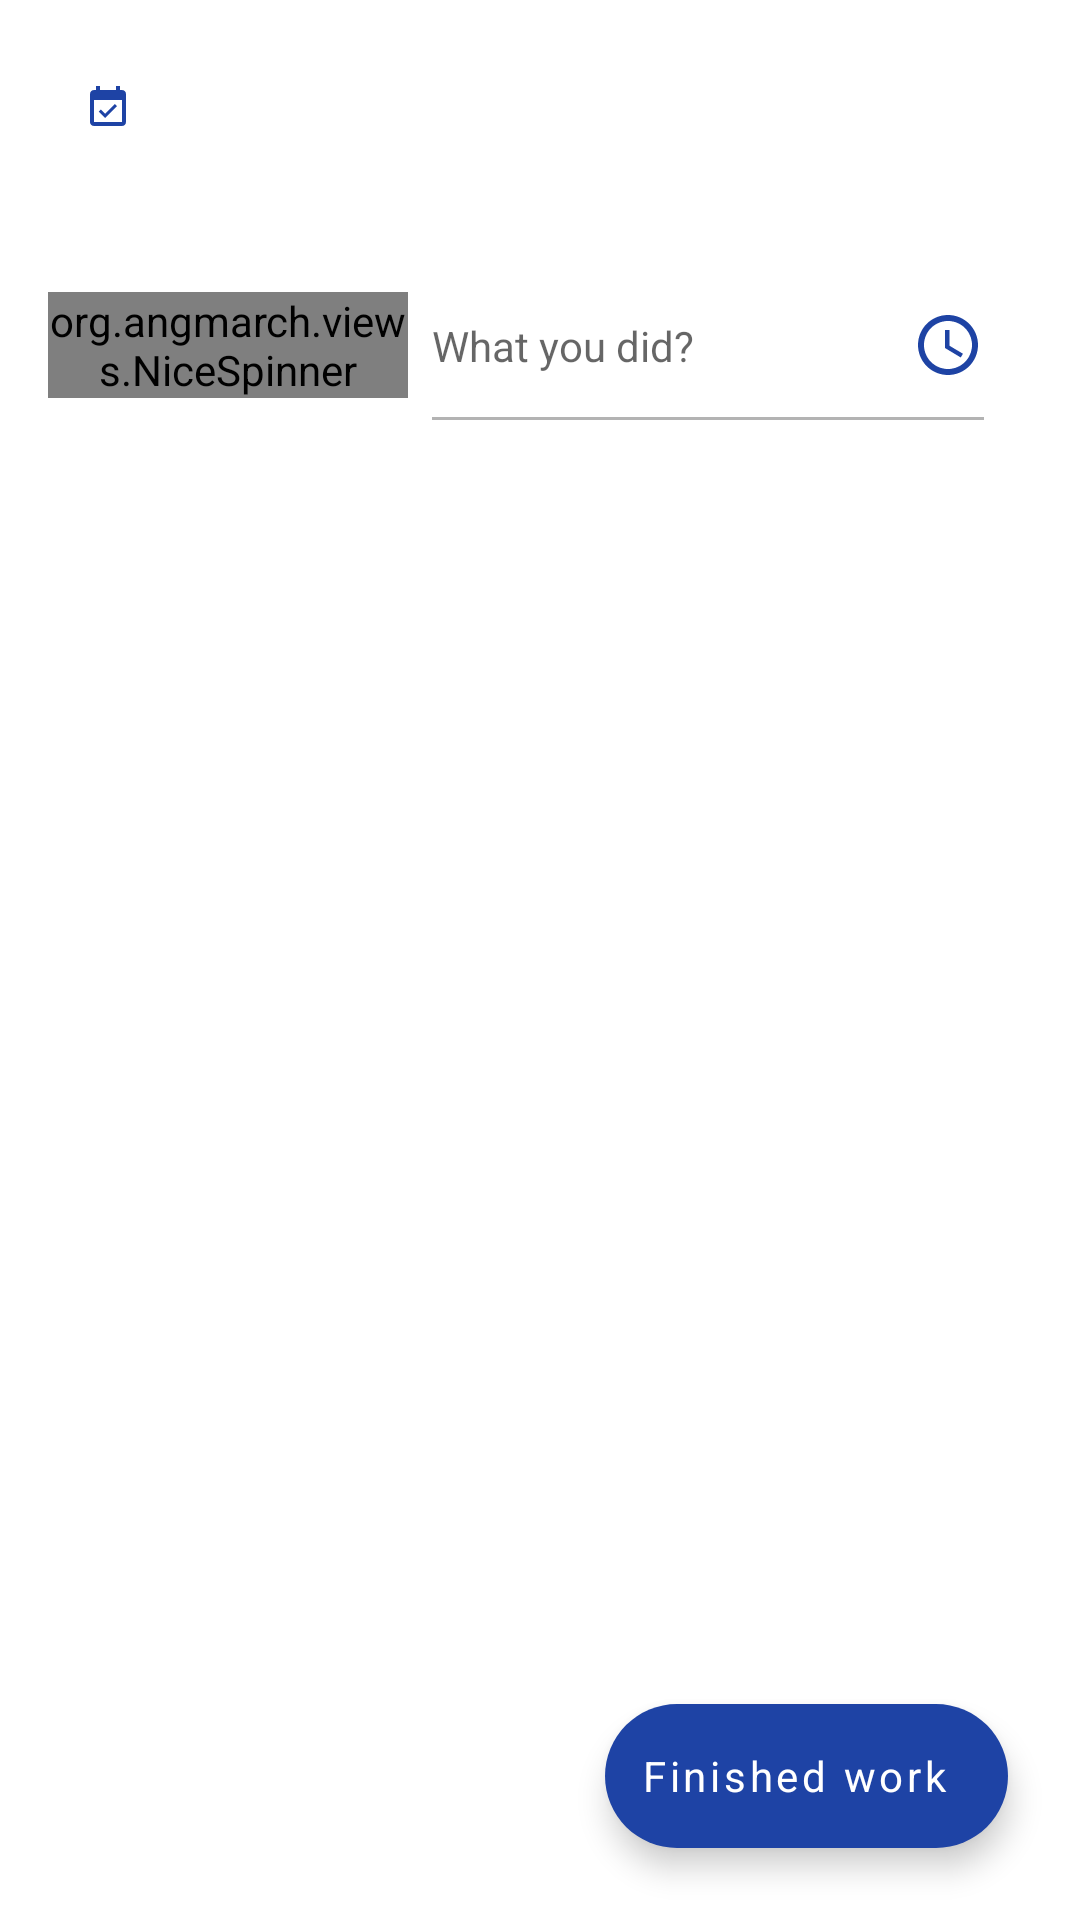

Icon click points for this 1080 x 1920 phone screenshot, format point (x, y):
access time: point (948, 345)
event: point (108, 106)
